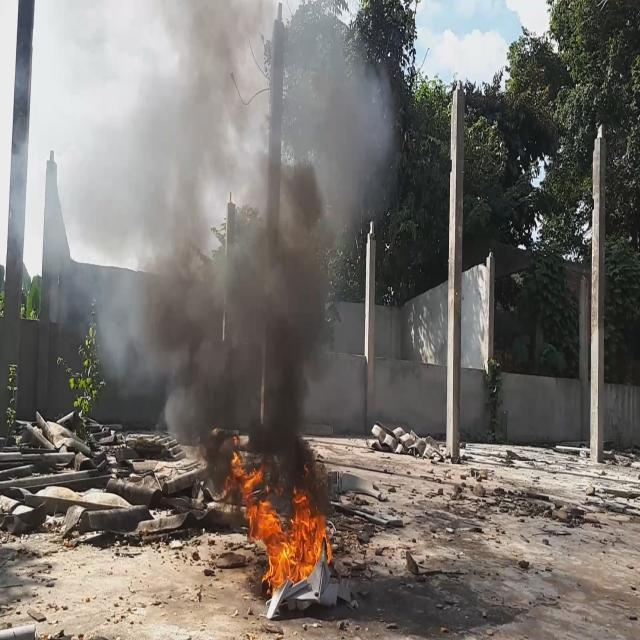Fire: (228, 452, 332, 594)
Smoke: (57, 0, 394, 492)
